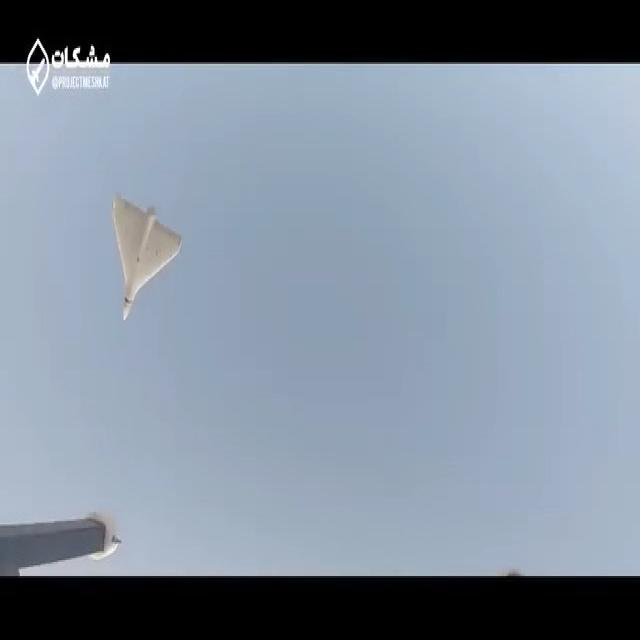drone: (105, 165, 192, 322)
